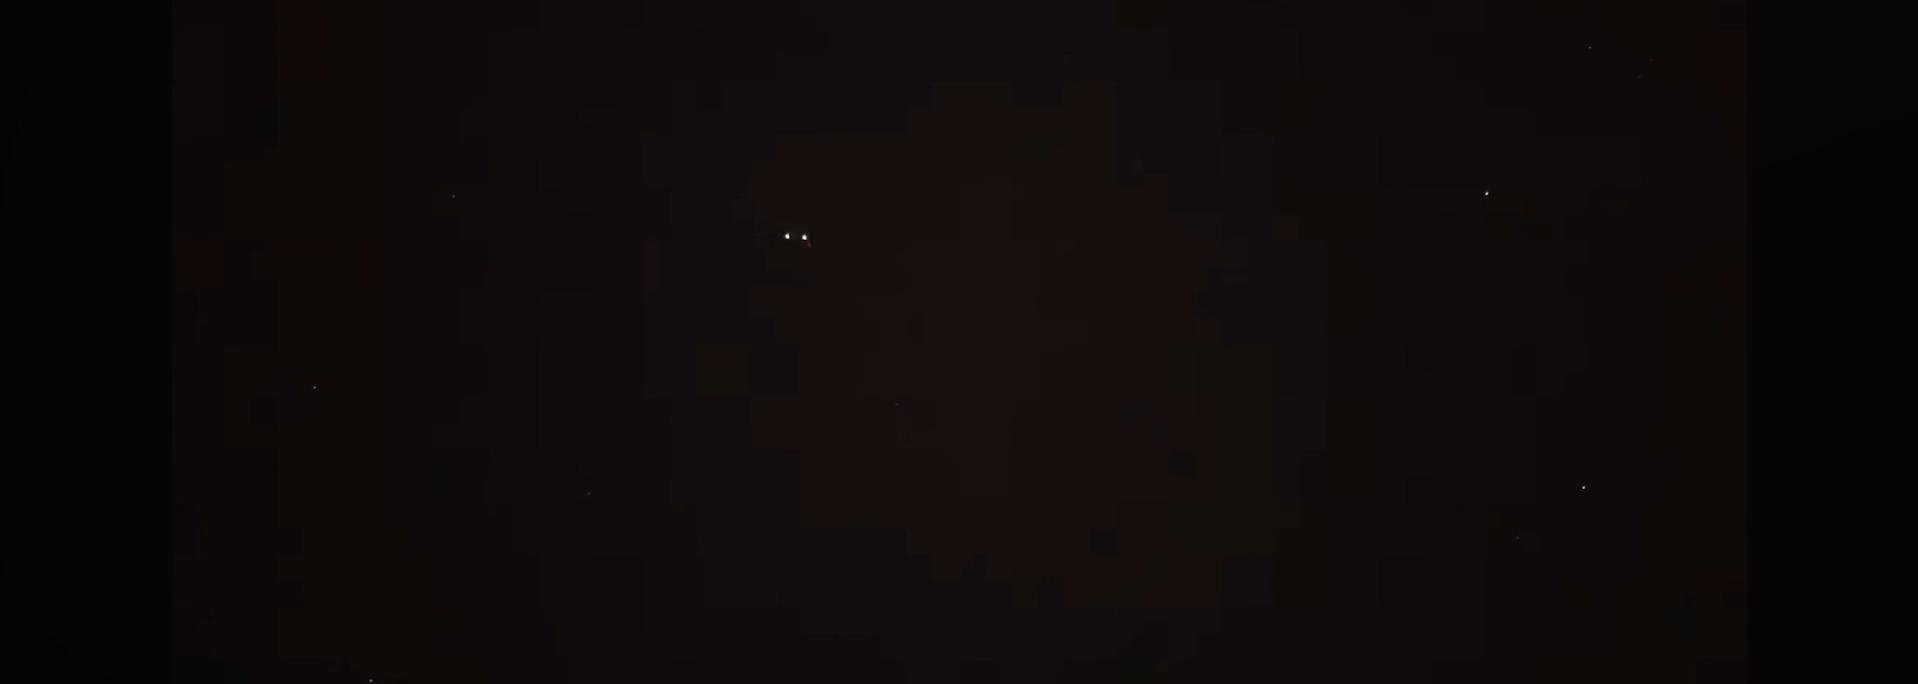Plane: (755, 220, 839, 255)
